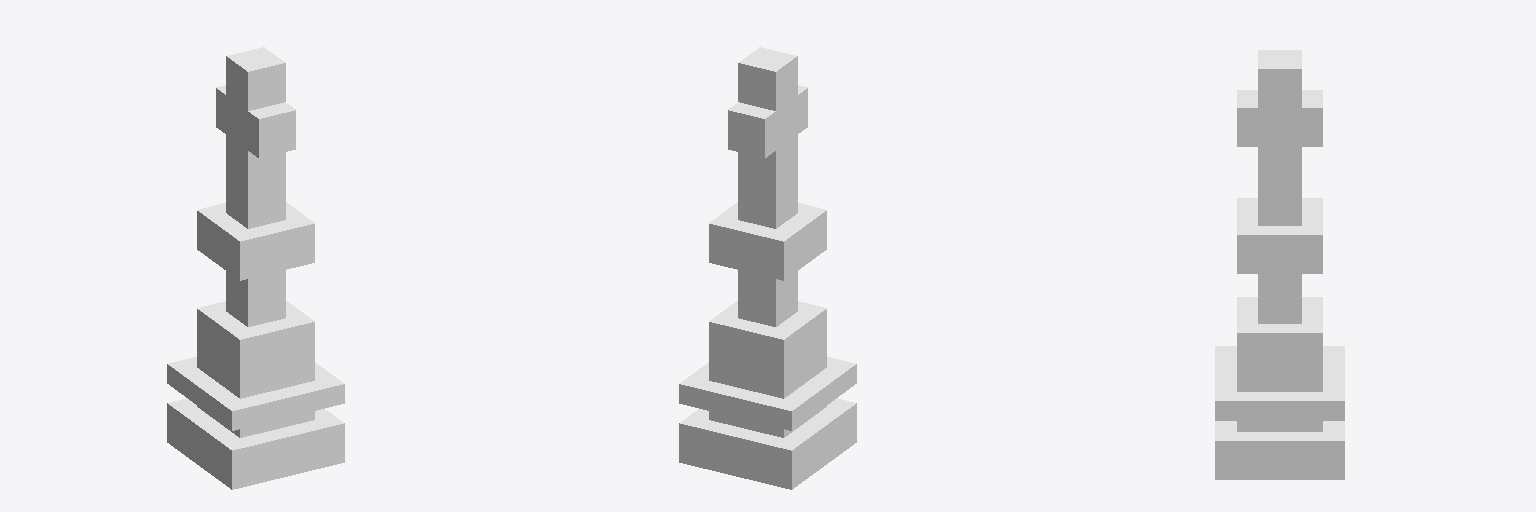
Rendered from Rey[1].obj.
3 renders of one model, left to right at view 1: azimuth 30°, elevation 25°; view 2: azimuth 150°, elevation 25°; view 3: azimuth 270°, elevation 25°, orthographic.
Visible parts, largest first — view 1: object 1; view 2: object 1; view 3: object 1.
Boxes of the visible parts, x1=… form: object 1: x1=167, y1=47, x2=344, y2=489; object 1: x1=679, y1=47, x2=856, y2=489; object 1: x1=1215, y1=50, x2=1344, y2=479.
Size of the model in its own units: 0.6 by 2 by 0.6.